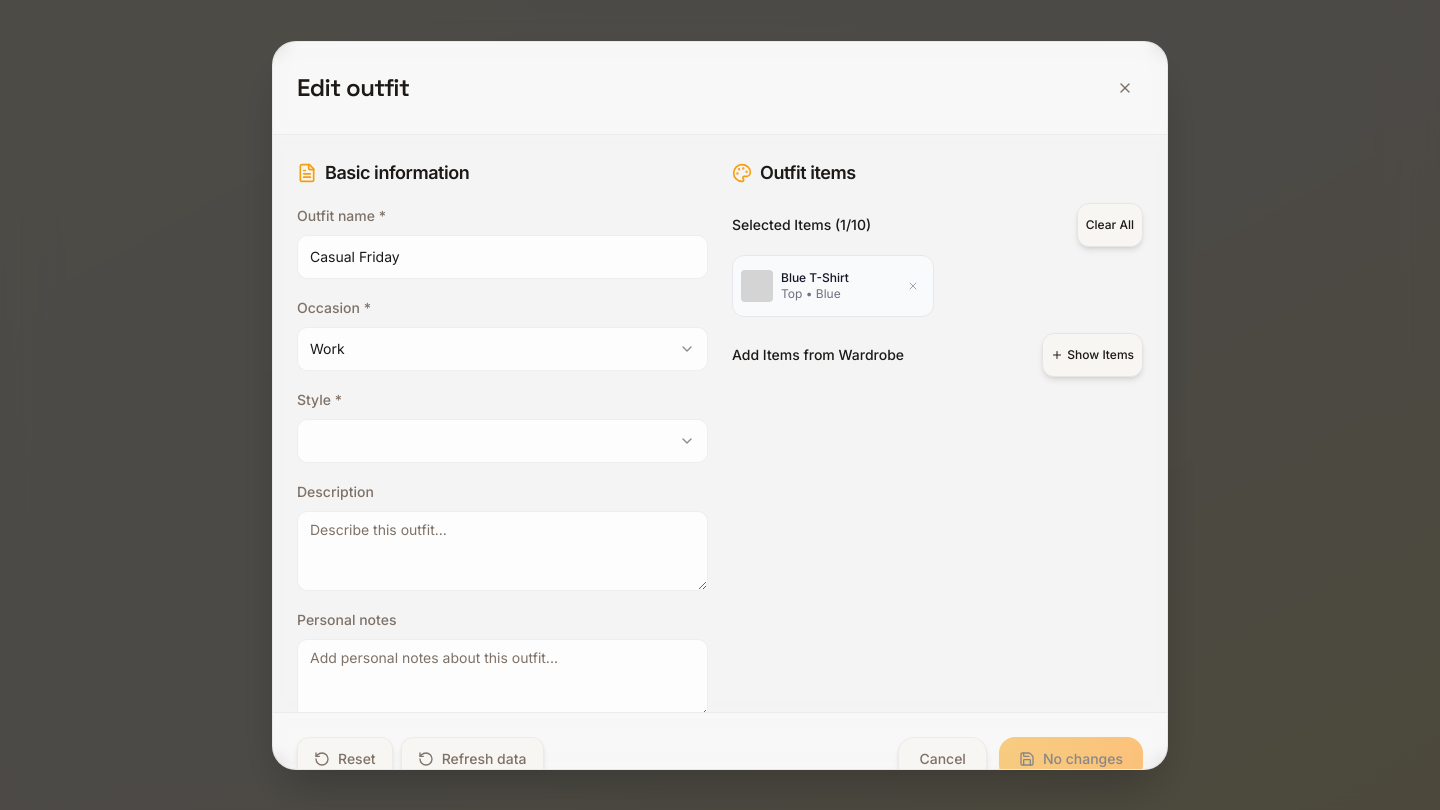
it: OutfitEditModal › shows unsaved changes indicator
# Make a change
Replace the text in the field showing "Casual Friday" with "Updated Outfit Name". click: (502, 256)
box: [297,234,708,278]
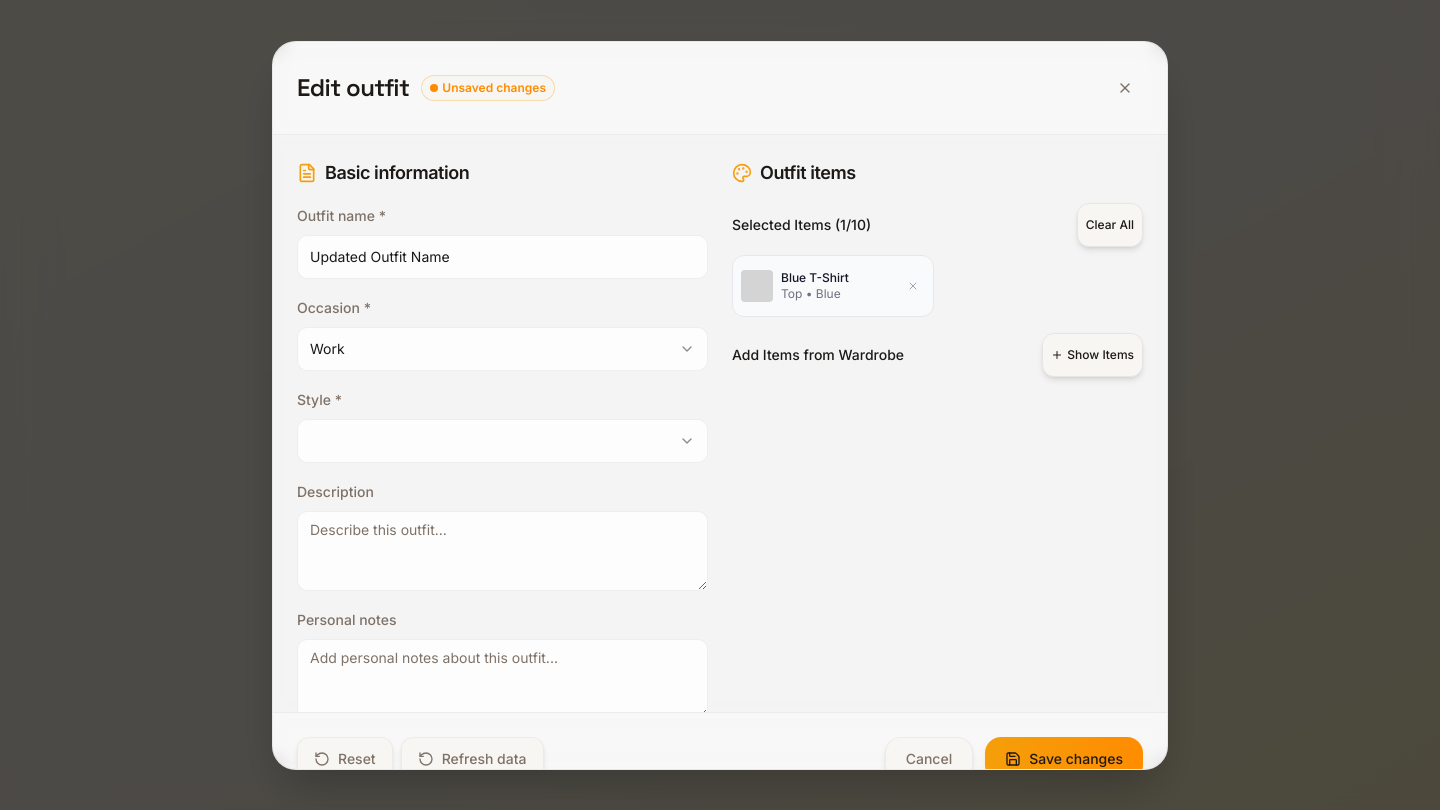
Now the text "Unsaved changes" is shown, box [421,74,555,100]
